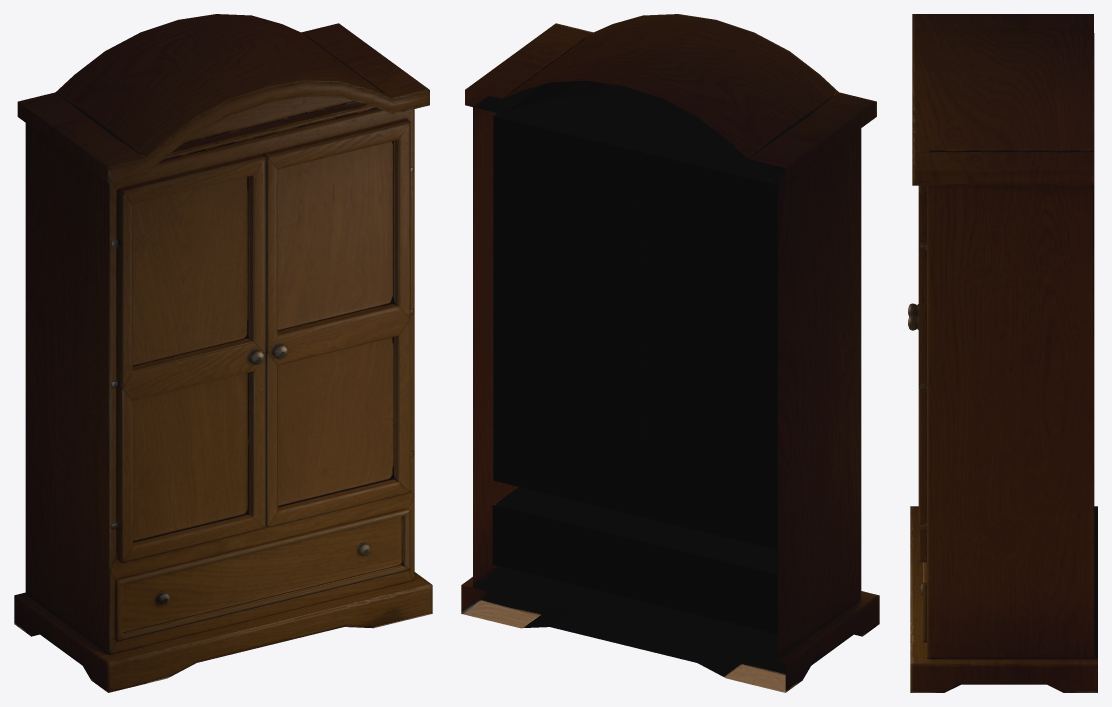
Rendered from G2_SM_armoir.gltf.
3 views of the same model, side by side, from view 1: azimuth 30°, elevation 25°; view 2: azimuth 150°, elevation 25°; view 3: azimuth 270°, elevation 25° (orthographic).
Visible parts, largest first — view 1: armoir; view 2: armoir; view 3: armoir.
Part boxes in pixels (x1,y1,x2,y2): armoir: [14, 14, 432, 692]; armoir: [461, 14, 879, 692]; armoir: [908, 14, 1097, 692].
Size of the model in its own units: 1.08 by 1.8 by 0.5478.
Materials: 1 (1 with a texture image).
